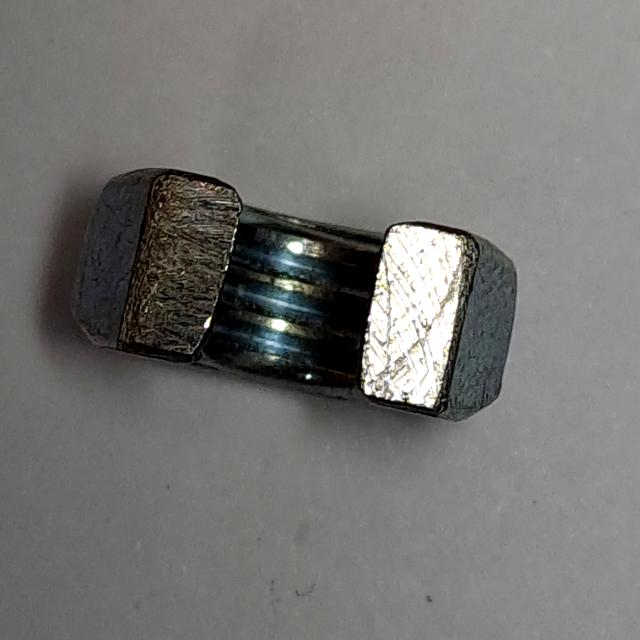Side-Fracture: (55, 154, 544, 437)
